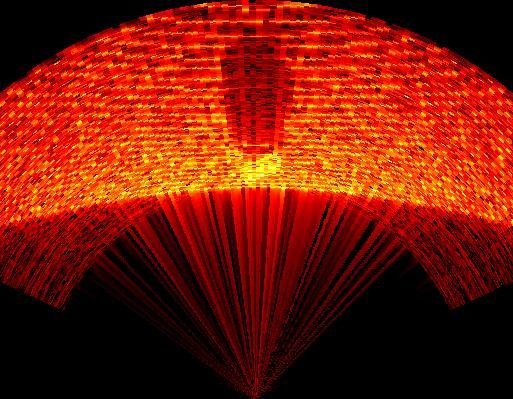box_crate: (220, 27, 299, 152)
